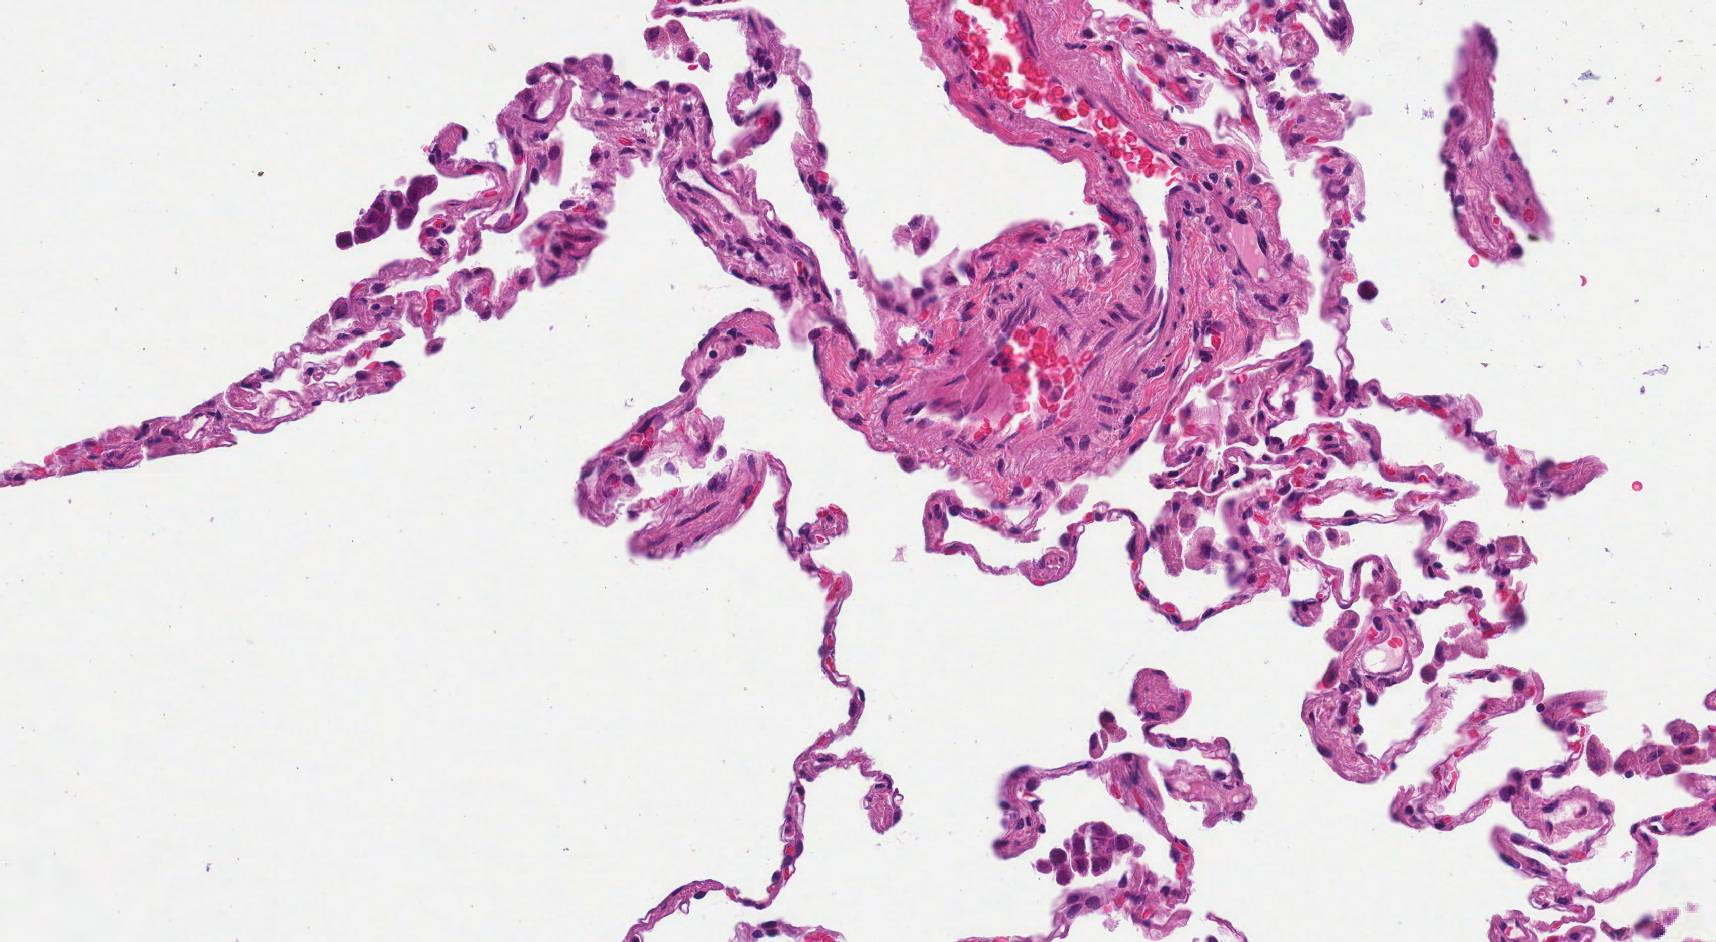stas: (336, 173, 439, 250), (1031, 817, 1133, 888)
